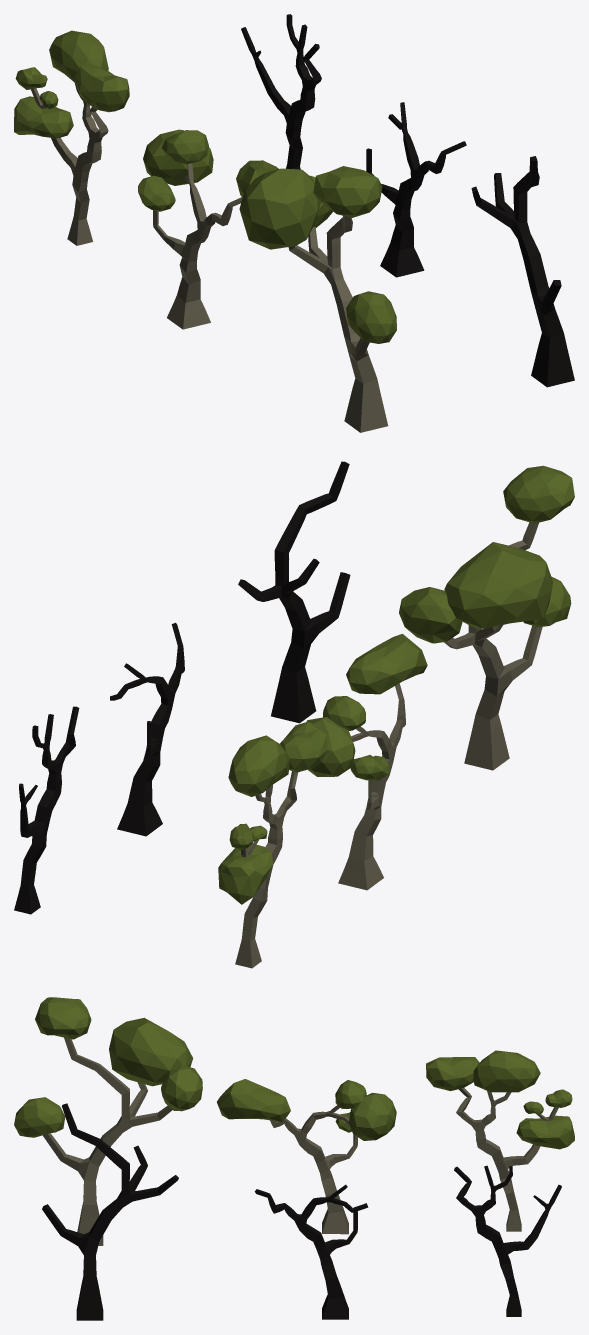
The model's file is modelo_cerrado_arvores.fbx.
3 renders of one model, top to bottom at view 1: azimuth 30°, elevation 25°; view 2: azimuth 150°, elevation 25°; view 3: azimuth 270°, elevation 25°, orthographic. The views are drawn at different scales.
Visible parts, largest first — view 1: Cerrado Folhagem 3, Cerrado Folhagem 1, Cerrado Arvore Morta 3, Cerrado Arvore 3, Cerrado Folhagem 2, Cerrado Arvore Morta 2, Cerrado Arvore 2, Cerrado Arvore Morta 1, Cerrado Arvore 1; view 2: Cerrado Folhagem 3, Cerrado Folhagem 1, Cerrado Arvore Morta 3, Cerrado Folhagem 2, Cerrado Arvore 3, Cerrado Arvore Morta 2, Cerrado Arvore Morta 1, Cerrado Arvore 2, Cerrado Arvore 1; view 3: Cerrado Folhagem 3, Cerrado Folhagem 1, Cerrado Folhagem 2, Cerrado Arvore Morta 3, Cerrado Arvore 3, Cerrado Arvore Morta 2, Cerrado Arvore Morta 1, Cerrado Arvore 2, Cerrado Arvore 1.
Boxes of the visible parts, x1,y1,x2,y2 form: Cerrado Folhagem 3: (239, 166, 396, 343); Cerrado Folhagem 1: (14, 30, 129, 138); Cerrado Arvore Morta 3: (471, 156, 574, 387); Cerrado Arvore 3: (288, 216, 388, 432); Cerrado Folhagem 2: (138, 129, 278, 211); Cerrado Arvore Morta 2: (366, 102, 466, 277); Cerrado Arvore 2: (153, 163, 242, 329); Cerrado Arvore Morta 1: (241, 14, 321, 169); Cerrado Arvore 1: (31, 83, 108, 245); Cerrado Folhagem 3: (399, 465, 574, 643); Cerrado Folhagem 1: (218, 721, 327, 904); Cerrado Arvore Morta 3: (238, 461, 350, 723); Cerrado Folhagem 2: (306, 634, 427, 780); Cerrado Arvore 3: (444, 522, 542, 770); Cerrado Arvore Morta 2: (110, 622, 184, 836); Cerrado Arvore Morta 1: (14, 706, 79, 914); Cerrado Arvore 2: (338, 683, 405, 890); Cerrado Arvore 1: (235, 771, 298, 968); Cerrado Folhagem 3: (14, 997, 202, 1137); Cerrado Folhagem 1: (426, 1050, 574, 1149); Cerrado Folhagem 2: (217, 1079, 396, 1140); Cerrado Arvore Morta 3: (42, 1103, 178, 1320); Cerrado Arvore 3: (43, 1037, 172, 1245); Cerrado Arvore Morta 2: (254, 1184, 368, 1319); Cerrado Arvore Morta 1: (454, 1165, 561, 1316); Cerrado Arvore 2: (270, 1105, 357, 1234); Cerrado Arvore 1: (456, 1088, 558, 1231).
Bounding box in the file's own units: 362 × 326 × 738.
